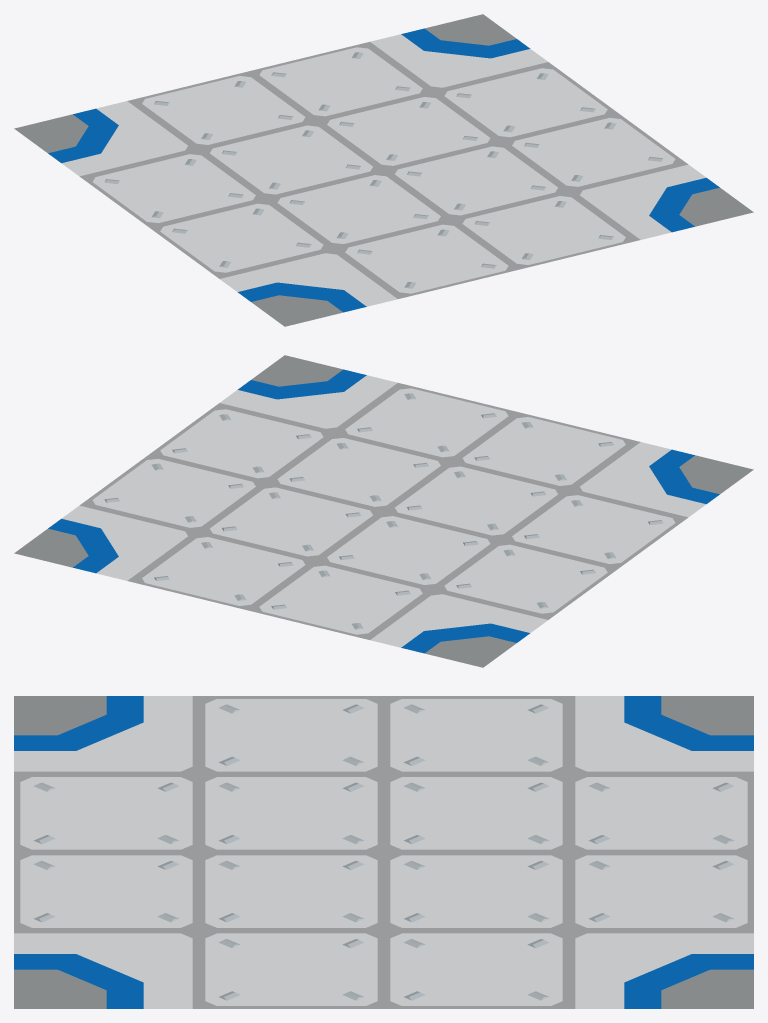
Rendered from Floor_type_A_004.fbx.
The picture shows the model from 3 angles, top to bottom: view 1: azimuth 30°, elevation 25°; view 2: azimuth 150°, elevation 25°; view 3: azimuth 270°, elevation 25°; orthographic projection. The views are drawn at different scales.
Parts seen in each view (by area): view 1: Floor_type_A_004; view 2: Floor_type_A_004; view 3: Floor_type_A_004.
Boxes of the visible parts, <box> form: Floor_type_A_004: <box>14,14,753,326</box>; Floor_type_A_004: <box>14,355,753,667</box>; Floor_type_A_004: <box>14,696,753,1008</box>.
Size of the model in its own units: 400 by 400 by 0.8.
